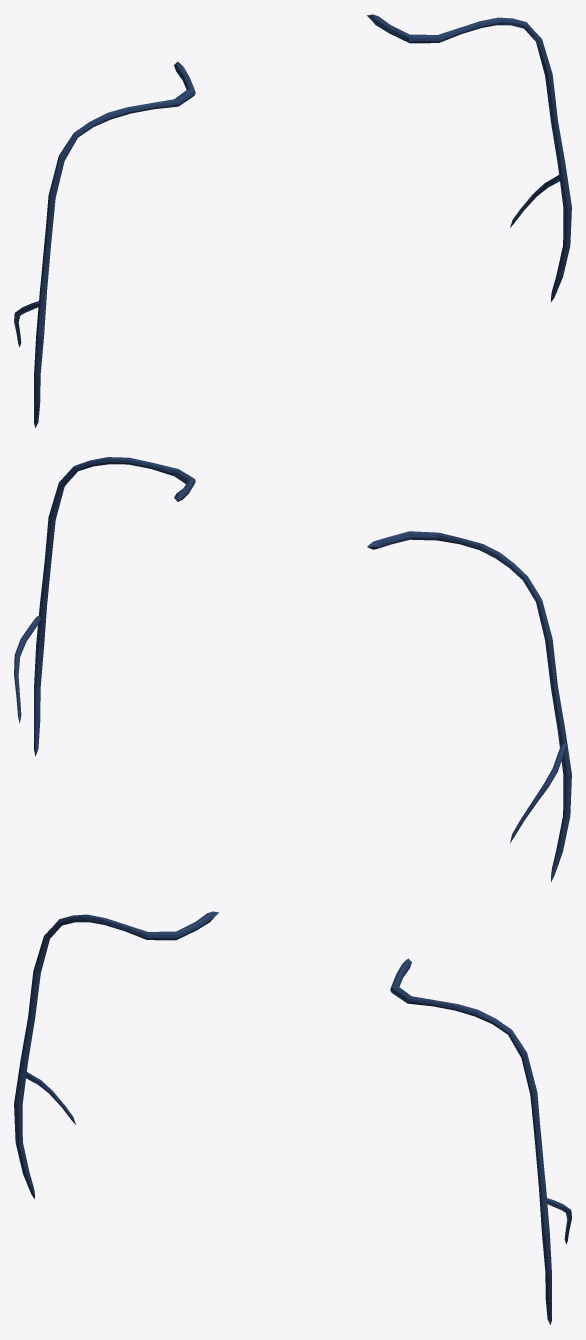
File: Vena Circunflejas.FBX
3 views of the same model, one above another, from view 1: azimuth 30°, elevation 25°; view 2: azimuth 150°, elevation 25°; view 3: azimuth 330°, elevation 25° (orthographic).
Visible parts, largest first — view 1: CS_Veins; view 2: CS_Veins; view 3: CS_Veins.
Boxes of the visible parts, bbox=[...] form: CS_Veins: bbox=[14, 14, 571, 427]; CS_Veins: bbox=[14, 457, 571, 881]; CS_Veins: bbox=[14, 911, 571, 1324].
Bounding box in the file's own units: 1186 × 665 × 171.
